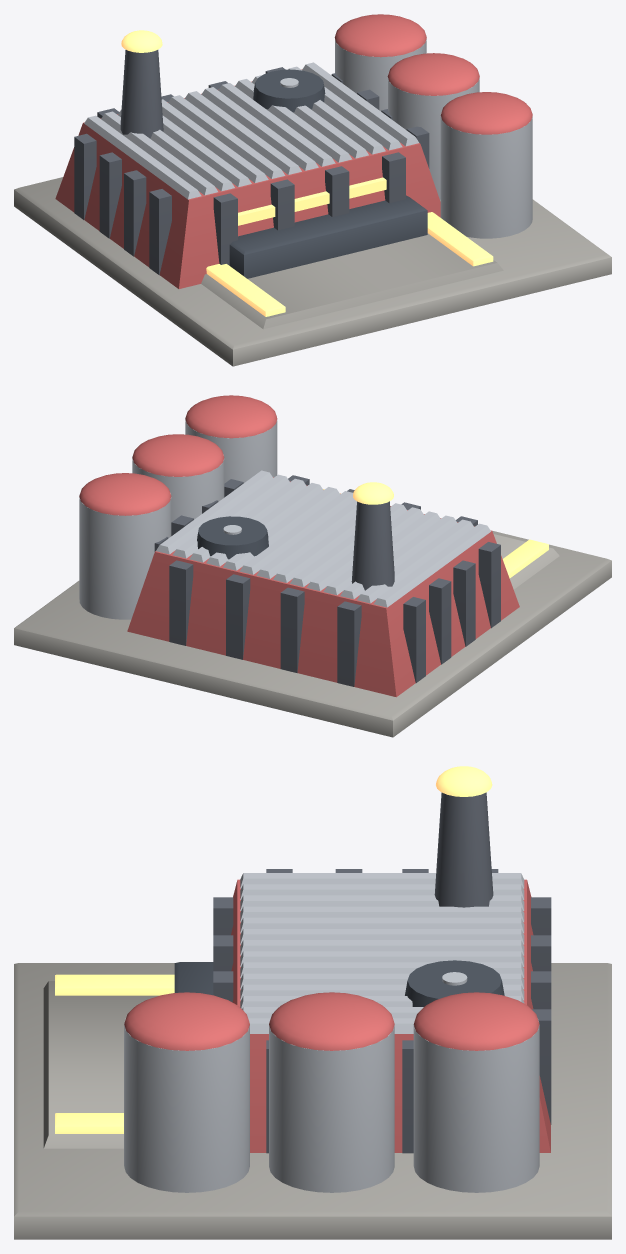
The model's file is sproc.glb.
The picture shows the model from 3 angles, top to bottom: view 1: azimuth 30°, elevation 25°; view 2: azimuth 150°, elevation 25°; view 3: azimuth 270°, elevation 25°; orthographic projection. The views are drawn at different scales.
Parts seen in each view (by area): view 1: Hull; view 2: Hull; view 3: Hull.
Boxes of the visible parts, x1,y1,x2,y2 form: Hull: [14, 14, 611, 366]; Hull: [14, 395, 611, 737]; Hull: [14, 766, 611, 1239].
Bounding box in the file's own units: 5.13 × 2.52 × 5.13.
